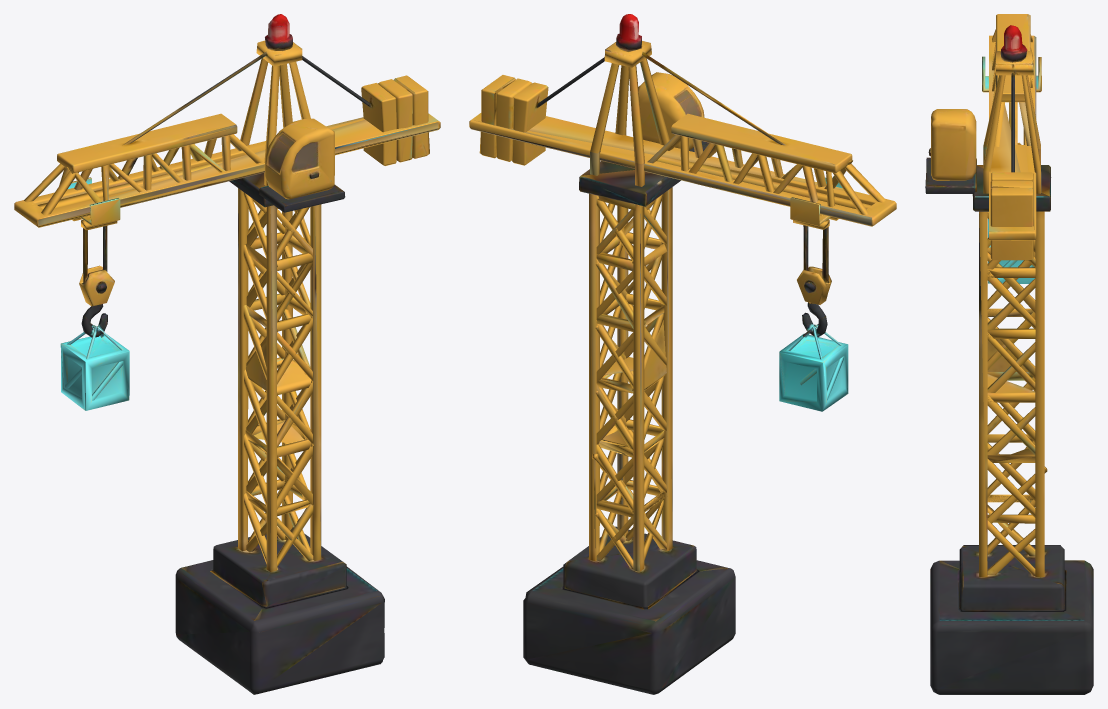
Rendered from crane.glb.
The picture shows the model from 3 angles, left to right: view 1: azimuth 30°, elevation 25°; view 2: azimuth 150°, elevation 25°; view 3: azimuth 270°, elevation 25°; orthographic projection.
Bounding box in the file's own units: 0.6304 × 0.9517 × 0.227.
1 material, 1 textured.
